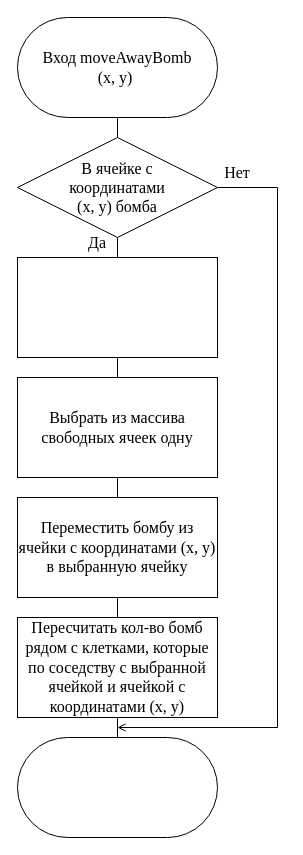
The diagram is 303 pixels wide and 855 high, and some of its shapes have lost their labels. Each missing label, with the box of its shape:
Выход moveAwayBomb (x, y): (16, 736, 218, 838)
Сформировать массив с координатами всех свободных ячеек на поле: (16, 256, 218, 358)
